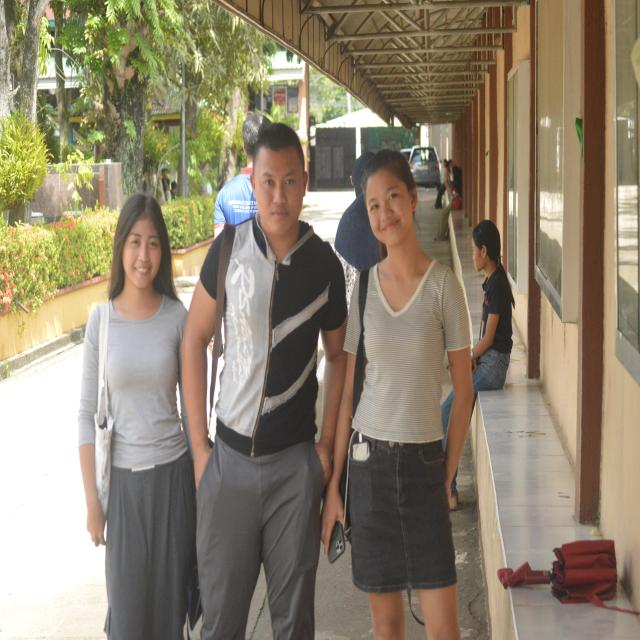person: (183, 124, 347, 639), (323, 151, 472, 639), (79, 194, 195, 639), (472, 220, 514, 405), (335, 152, 380, 304), (215, 113, 270, 236)
